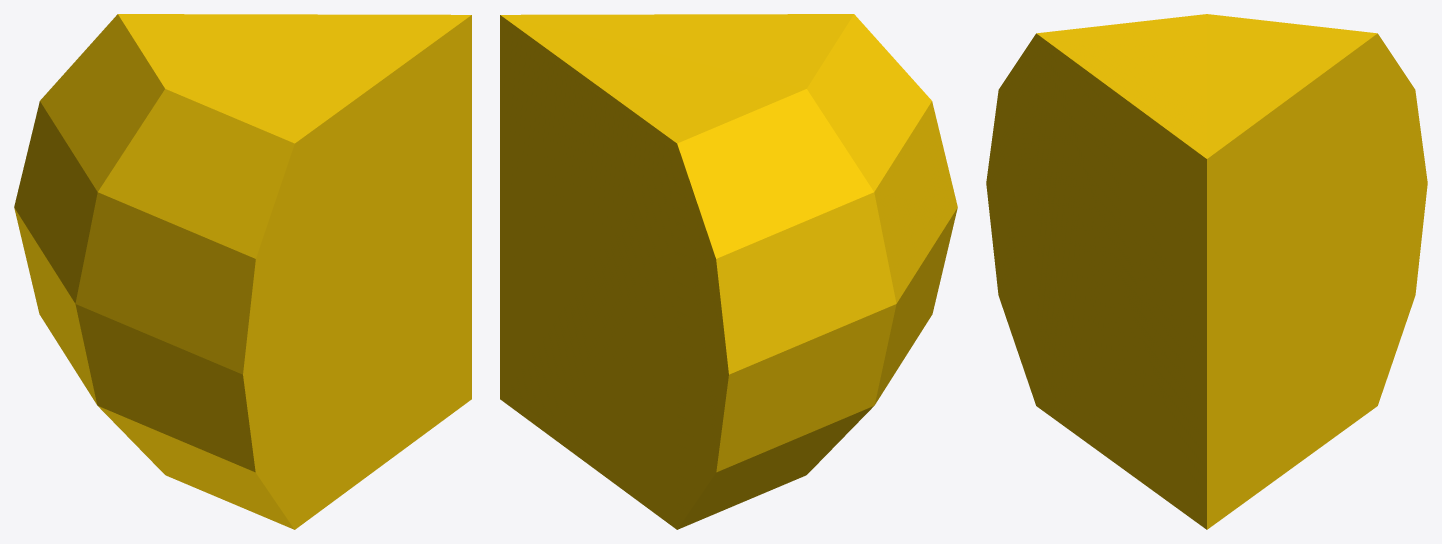
File: Cheese_Small_No_Holes.fbx
The picture shows the model from 3 angles, left to right: view 1: azimuth 30°, elevation 25°; view 2: azimuth 150°, elevation 25°; view 3: azimuth 270°, elevation 25°; orthographic projection. The views are drawn at different scales.
Visible parts, largest first — view 1: Cheese_Small_No_Holes; view 2: Cheese_Small_No_Holes; view 3: Cheese_Small_No_Holes.
Boxes of the visible parts, x1=… form: Cheese_Small_No_Holes: x1=14, y1=14, x2=471, y2=529; Cheese_Small_No_Holes: x1=500, y1=14, x2=957, y2=529; Cheese_Small_No_Holes: x1=986, y1=14, x2=1427, y2=529.
Size of the model in its own units: 38.93 by 36.26 by 38.93.
